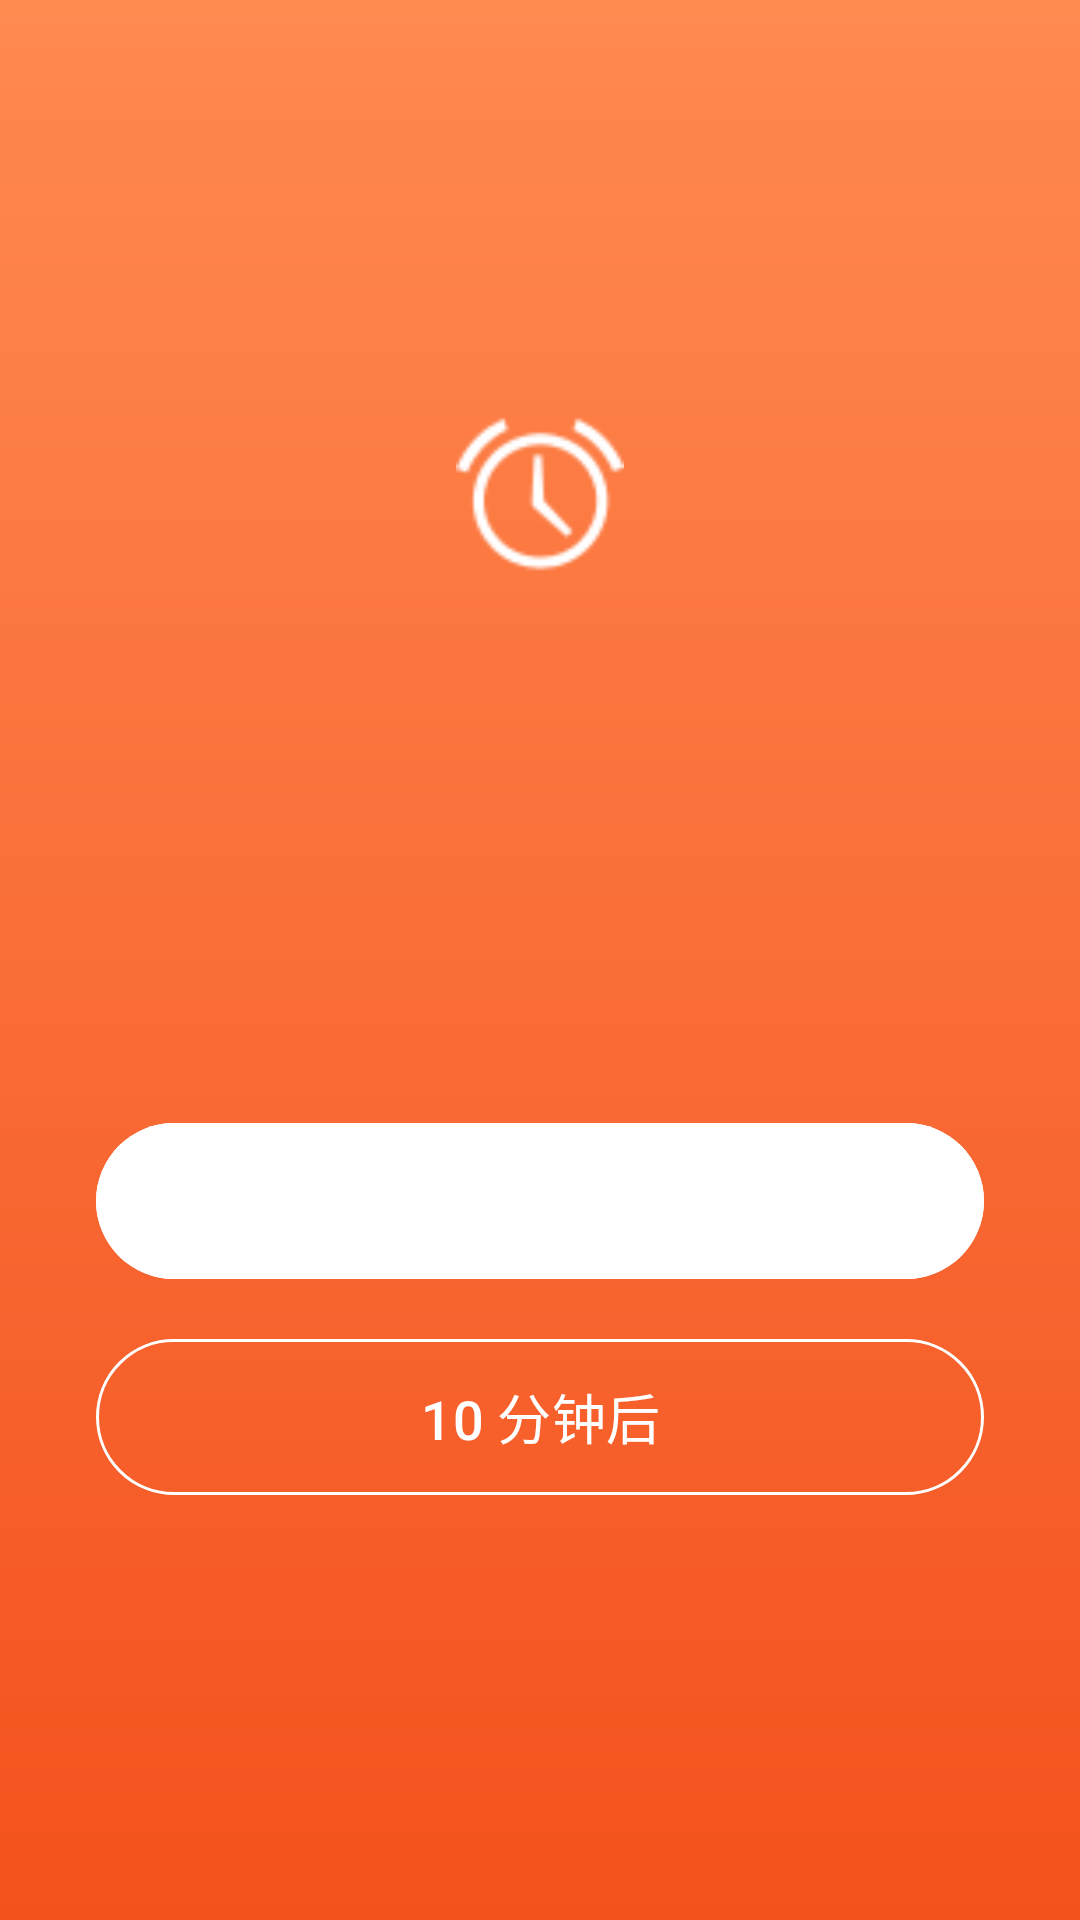

Icon bounding boxes for this 1080x1920 phone screenshot, format (x1, y1, x2, y2):
lock idle alarm: (456, 418, 624, 570)
